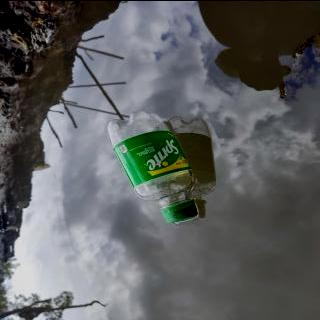bottle: (104, 107, 202, 225)
